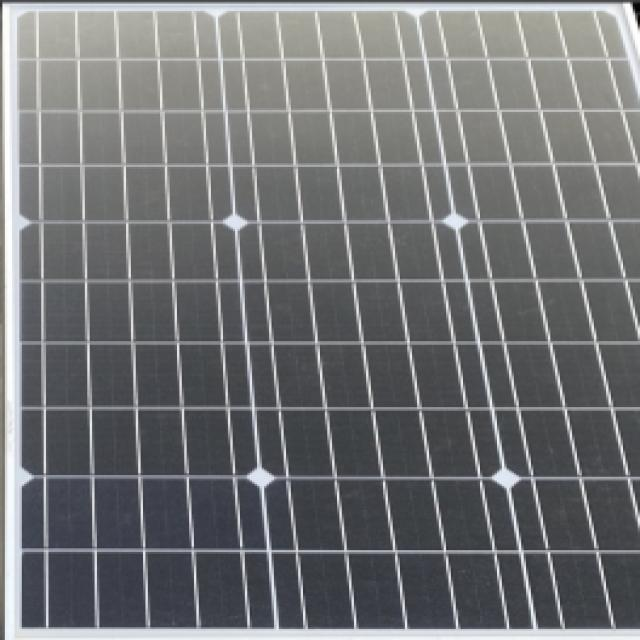clean-solar-panel: (21, 11, 636, 628)
